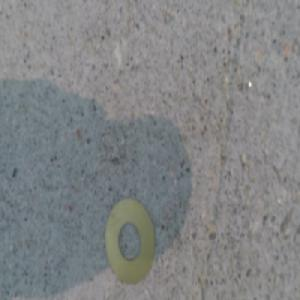Washer: (105, 192, 158, 277)
